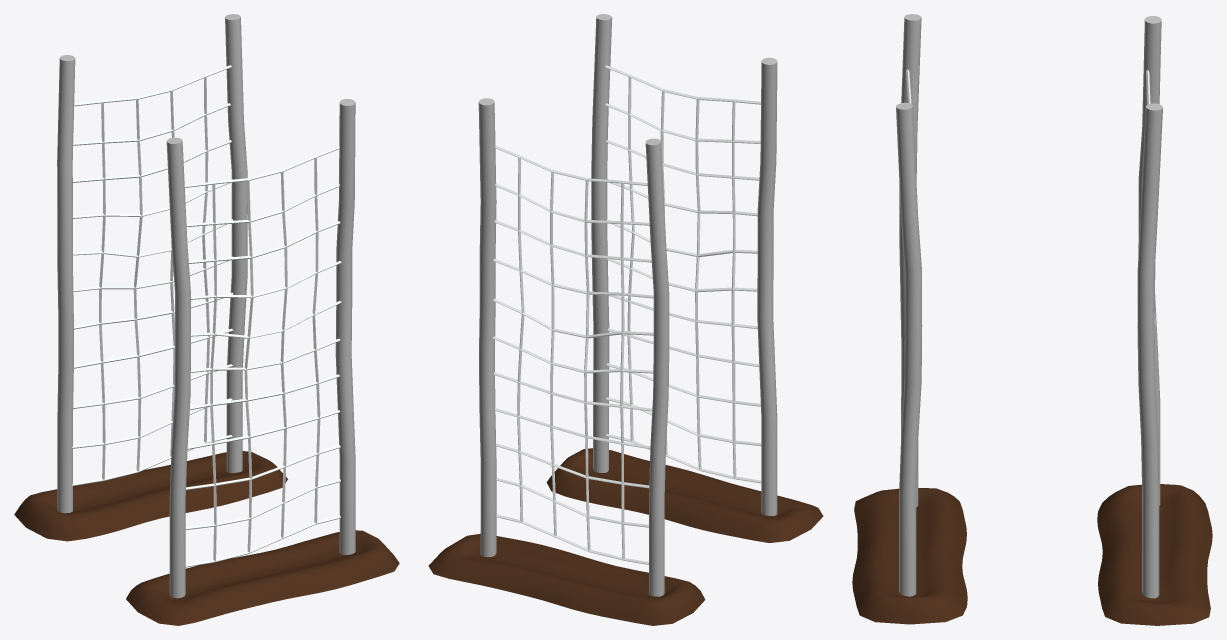
File: Cucumber1.fbx
3 renders of one model, left to right at view 1: azimuth 30°, elevation 25°; view 2: azimuth 150°, elevation 25°; view 3: azimuth 270°, elevation 25°, orthographic. The views are drawn at different scales.
Visible parts, largest first — view 1: 1; view 2: 1; view 3: 1.
Part boxes in pixels (left/top/right/bottom): 1: left=14, top=14, right=399, bottom=625; 1: left=428, top=14, right=823, bottom=625; 1: left=852, top=14, right=1212, bottom=625.
Size of the model in its own units: 272 by 470 by 310.
